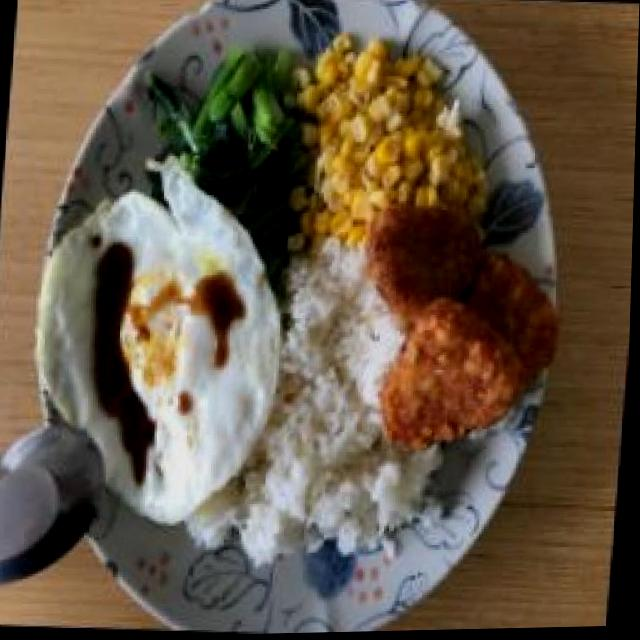fried_eggs: (21, 178, 294, 535)
rice: (254, 243, 399, 568)
triangle_hash_brown: (346, 200, 570, 462)
water_spinach: (135, 40, 309, 216)
